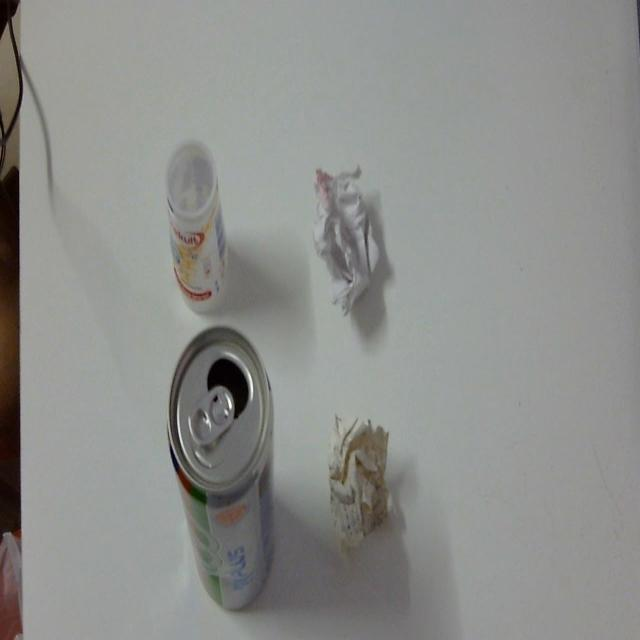metal_standrotation: (154, 320, 298, 628)
paperrotation: (320, 390, 410, 582), (307, 156, 397, 326)
plastic_standrotation: (153, 131, 250, 313)
